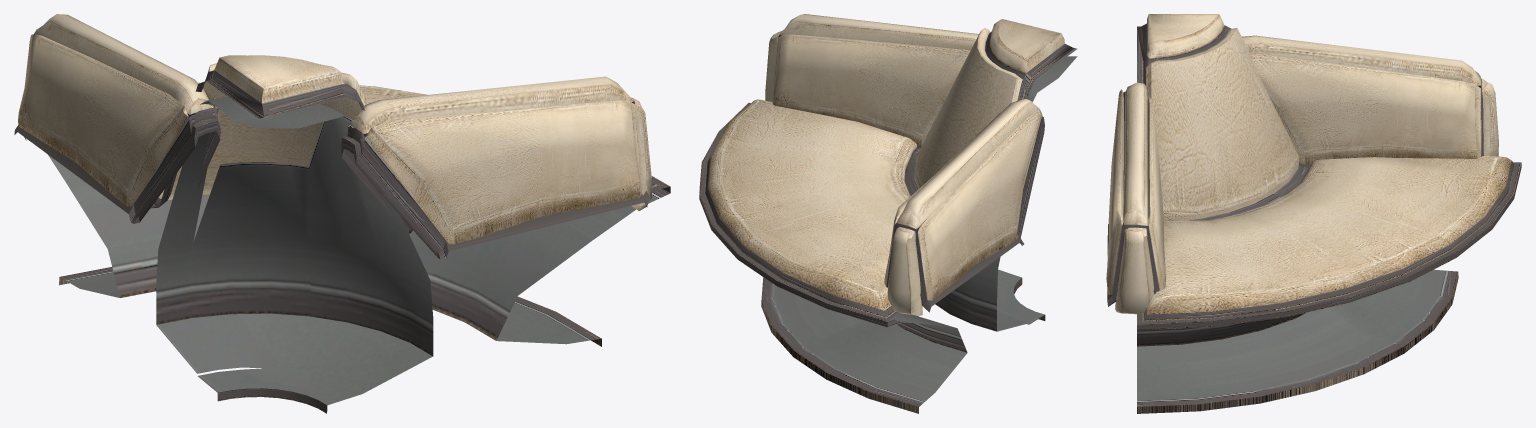
The model's file is Neon_Seat_BendOut_01b.FBX.
3 views of the same model, side by side, from view 1: azimuth 30°, elevation 25°; view 2: azimuth 150°, elevation 25°; view 3: azimuth 270°, elevation 25° (orthographic). The views are drawn at different scales.
Visible parts, largest first — view 1: Neon_Seat_BendOut_01b; view 2: Neon_Seat_BendOut_01b; view 3: Neon_Seat_BendOut_01b.
Part boxes in pixels (x1,y1,x2,y2): Neon_Seat_BendOut_01b: (14, 14, 670, 413); Neon_Seat_BendOut_01b: (699, 14, 1077, 413); Neon_Seat_BendOut_01b: (1106, 14, 1521, 413).
Size of the model in its own units: 1.35 by 0.9734 by 1.35.
